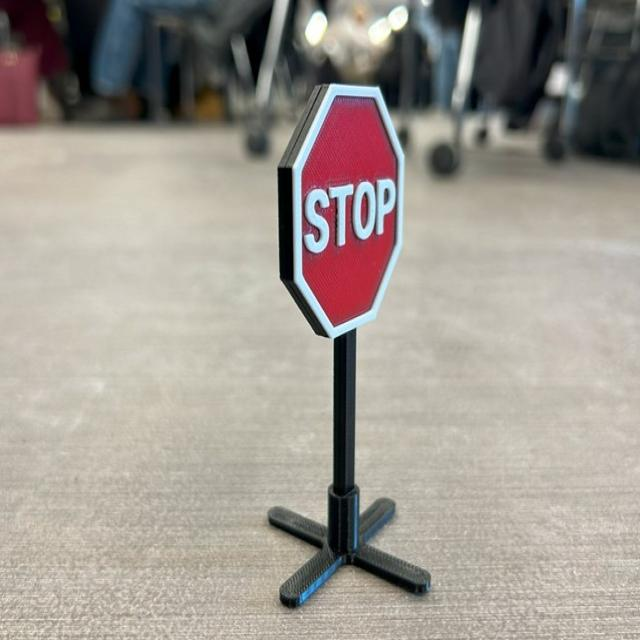sign_stop: (257, 62, 422, 357)
